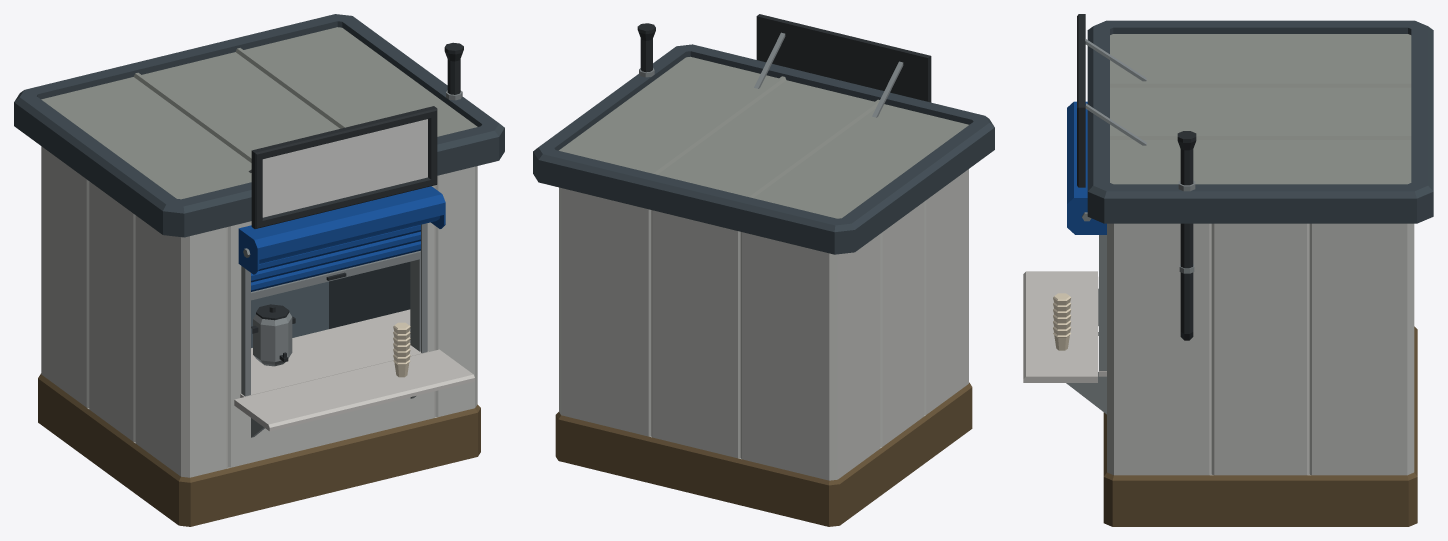
The model's file is refreshment-kiosk-406f65.glb.
3 views of the same model, side by side, from view 1: azimuth 30°, elevation 25°; view 2: azimuth 150°, elevation 25°; view 3: azimuth 270°, elevation 25° (orthographic). The views are drawn at different scales.
Parts seen in each view (by area): view 1: kiosk, tea-urn-mesh, shutter-barrel-mesh, cup-tower-mesh; view 2: kiosk; view 3: kiosk, cup-tower-mesh.
Part boxes in pixels (left/top/right/bottom): kiosk: left=14, top=14, right=504, bottom=526; tea-urn-mesh: left=251, top=304, right=295, bottom=366; shutter-barrel-mesh: left=243, top=216, right=439, bottom=263; cup-tower-mesh: left=393, top=322, right=410, bottom=377; kiosk: left=533, top=14, right=994, bottom=526; kiosk: left=1023, top=14, right=1433, bottom=526; cup-tower-mesh: left=1053, top=293, right=1071, bottom=350.
Bounding box in the file's own units: 3 × 3.16 × 2.96.
